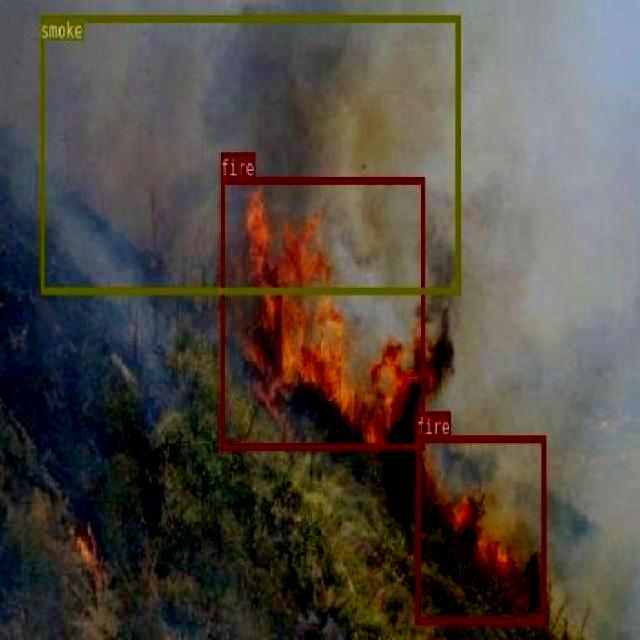fire: (219, 175, 424, 448), (414, 436, 546, 622)
smoke: (39, 14, 459, 294)
